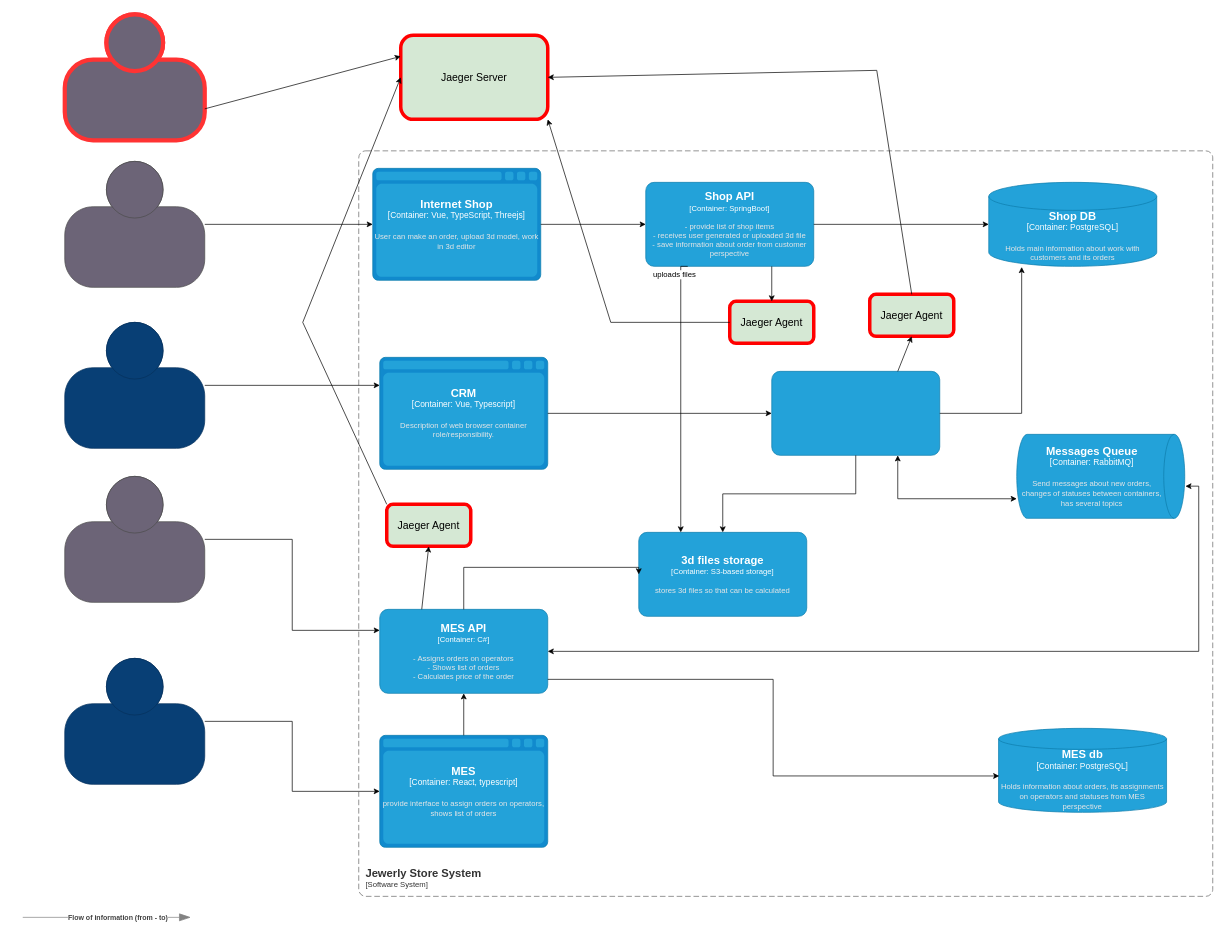
Image size: 1225x941. Some labels were removed from this diagram. The shapes that lost their labels are listed below. From the top down, each one's centre as x and y in pixels, then its label:
At (134,77): "Administrator [Person] Description of admin.".
At (134,224): "Customer [Person] Description of external person.".
At (134,385): "Seller [Person] Operates with order, confirms manufacturing for the user".
At (855,413): "CRM API [Container: SpringBoot] Description of container role/responsibility.".
At (134,539): "API user [Person] Description of external person.".
At (134,721): "Operator [Person] Takes order in work, manufactures jewerly".
